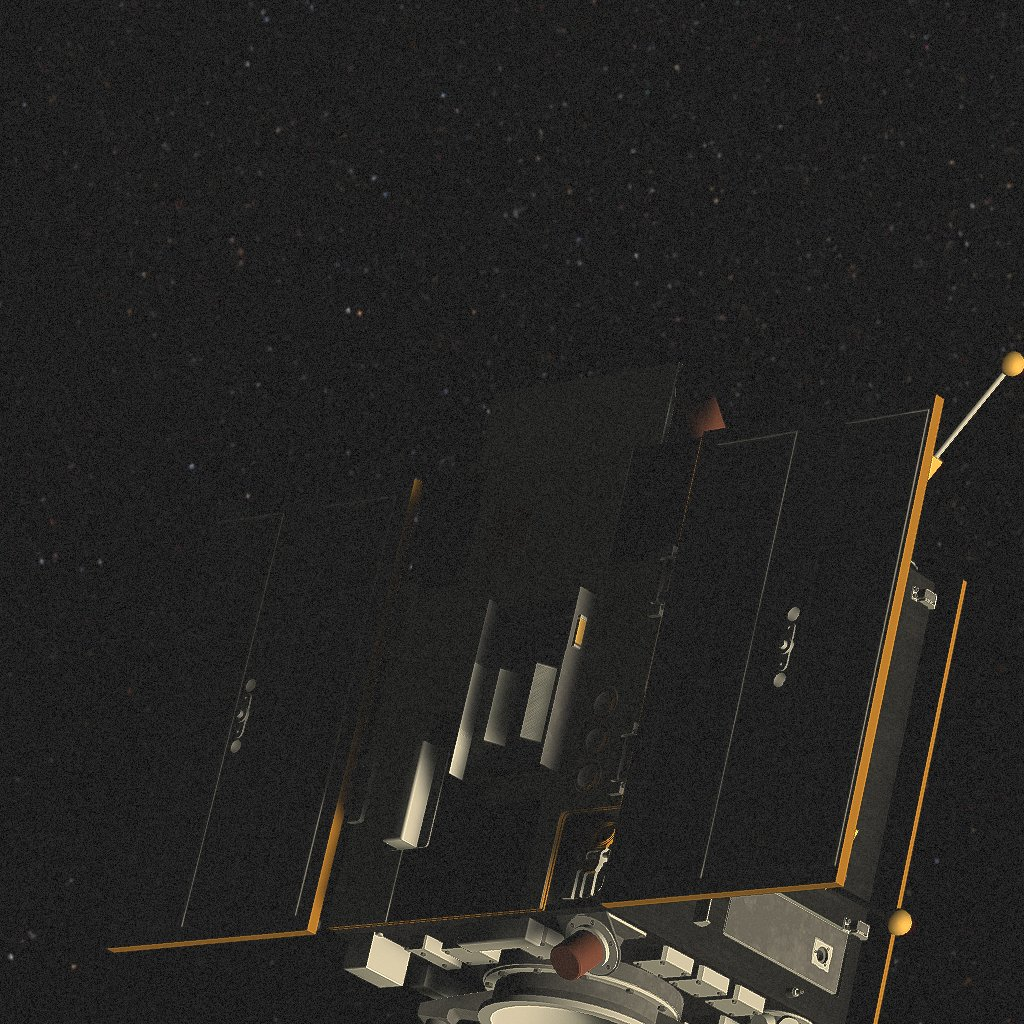proba_2: (106, 350, 1024, 1024)
